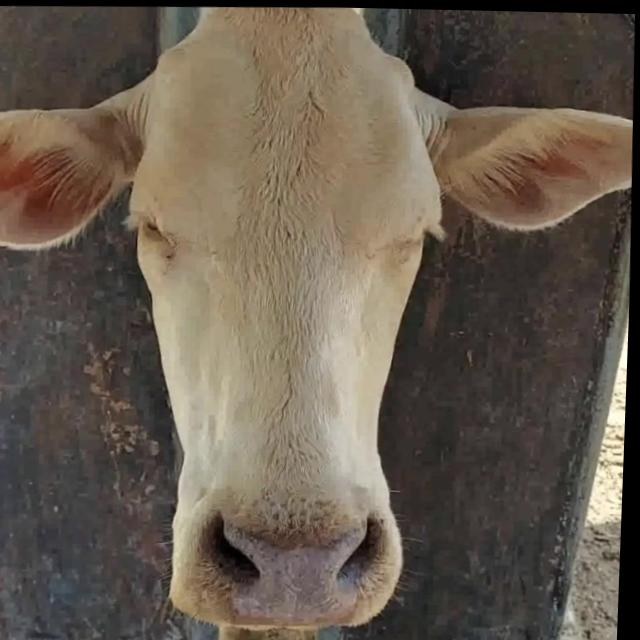cowFace: (123, 2, 443, 630)
